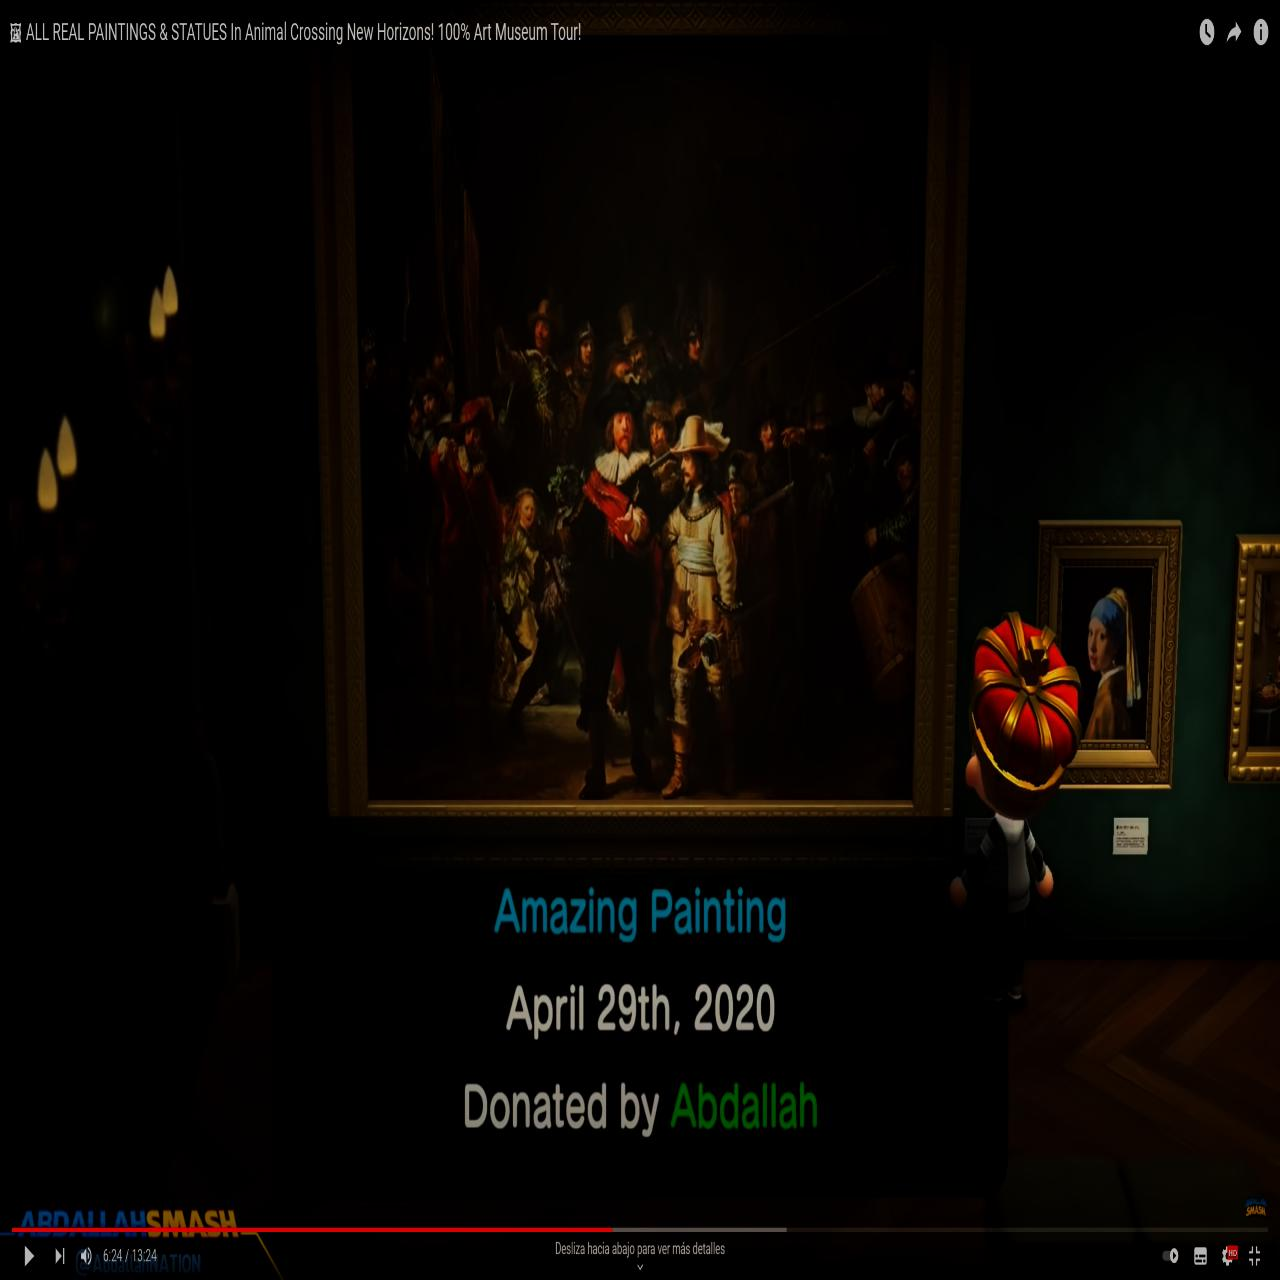NightWatch: (356, 53, 918, 799)
PearlEarring: (1065, 574, 1152, 748)
